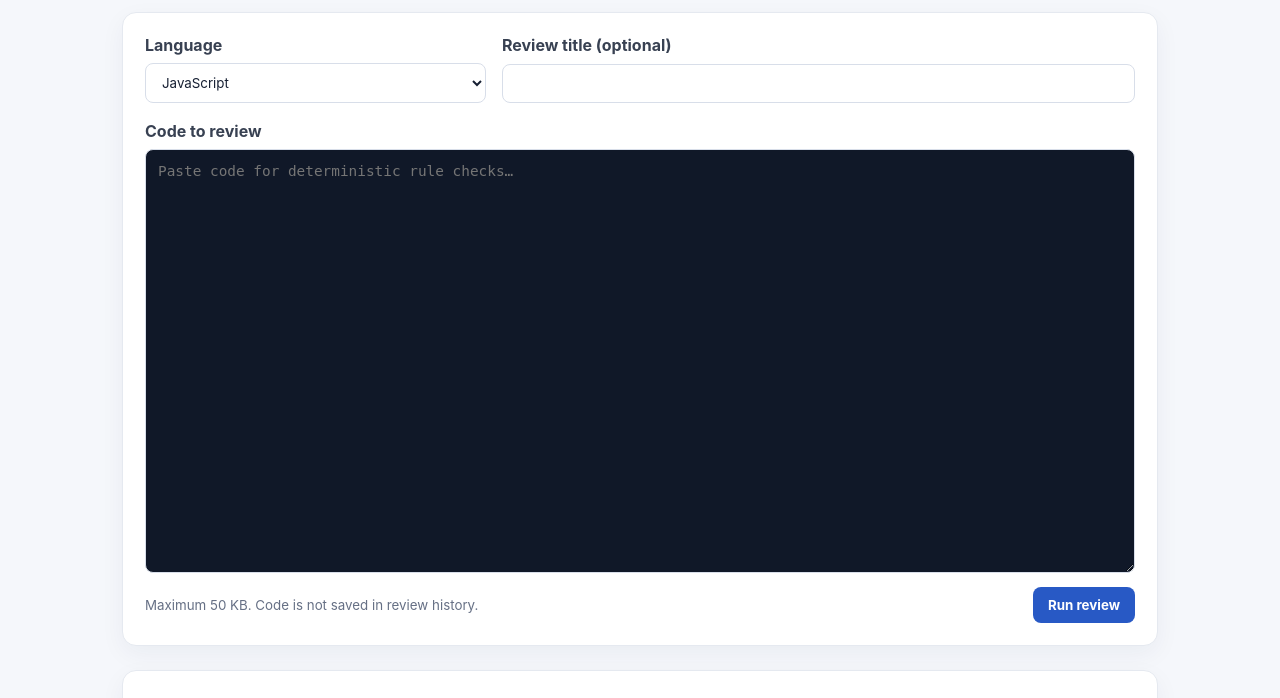
Scenario: Code Review page › displays a server error
(page scrolled)
Type "const answer = 42" into the text box labelled "Code to review" at (640, 361), box [145,149,1135,572]
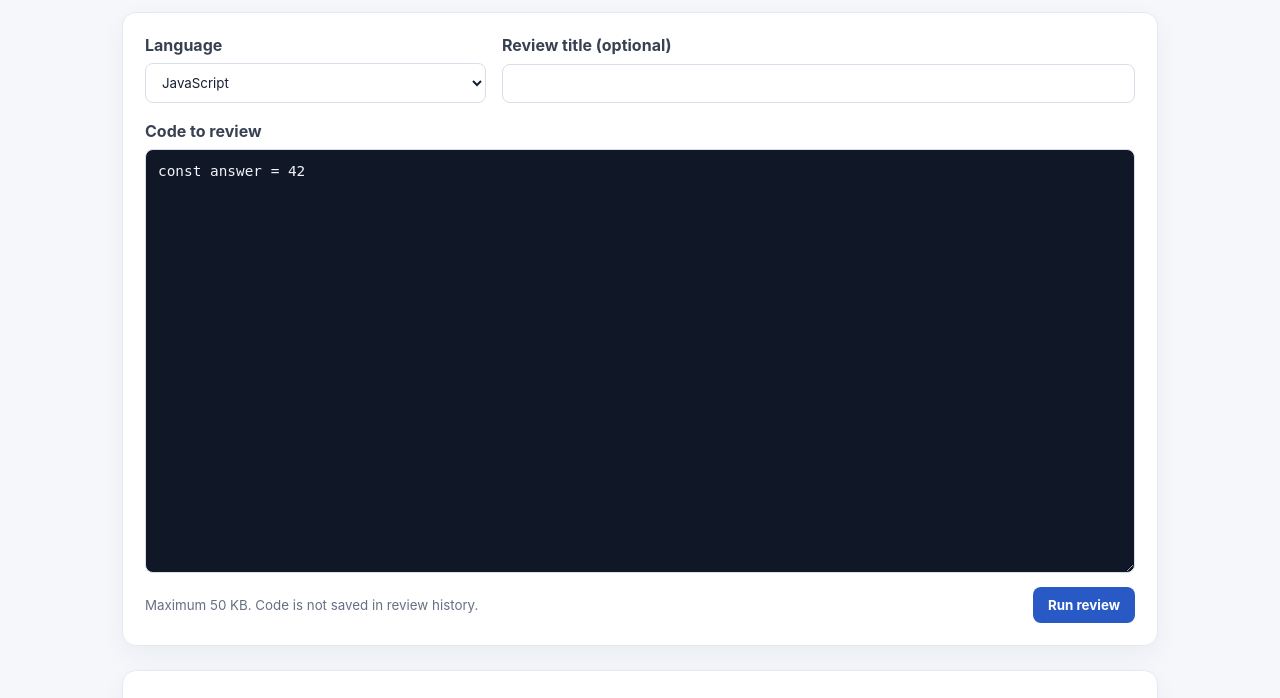
Click the button "Run review" at (1084, 604), box [1033,586,1135,622]
(page scrolled)
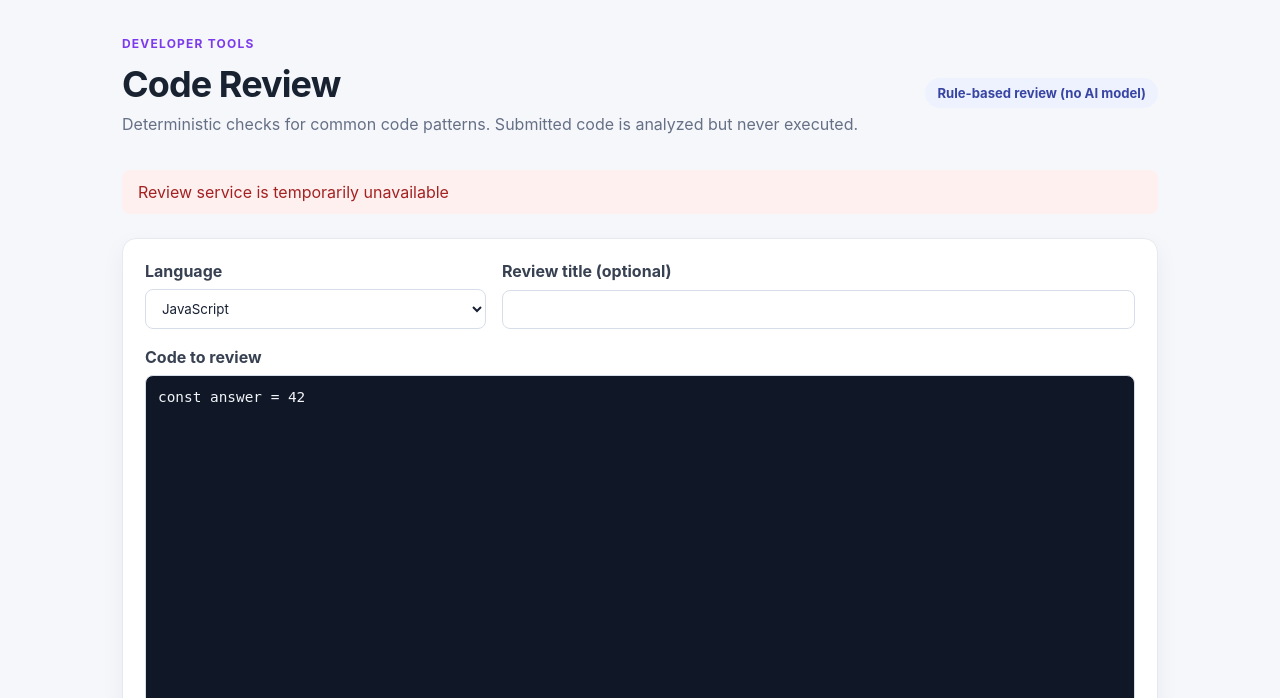
Check: the message reads "Review service is temporarily unavailable", box [138,182,449,202]
